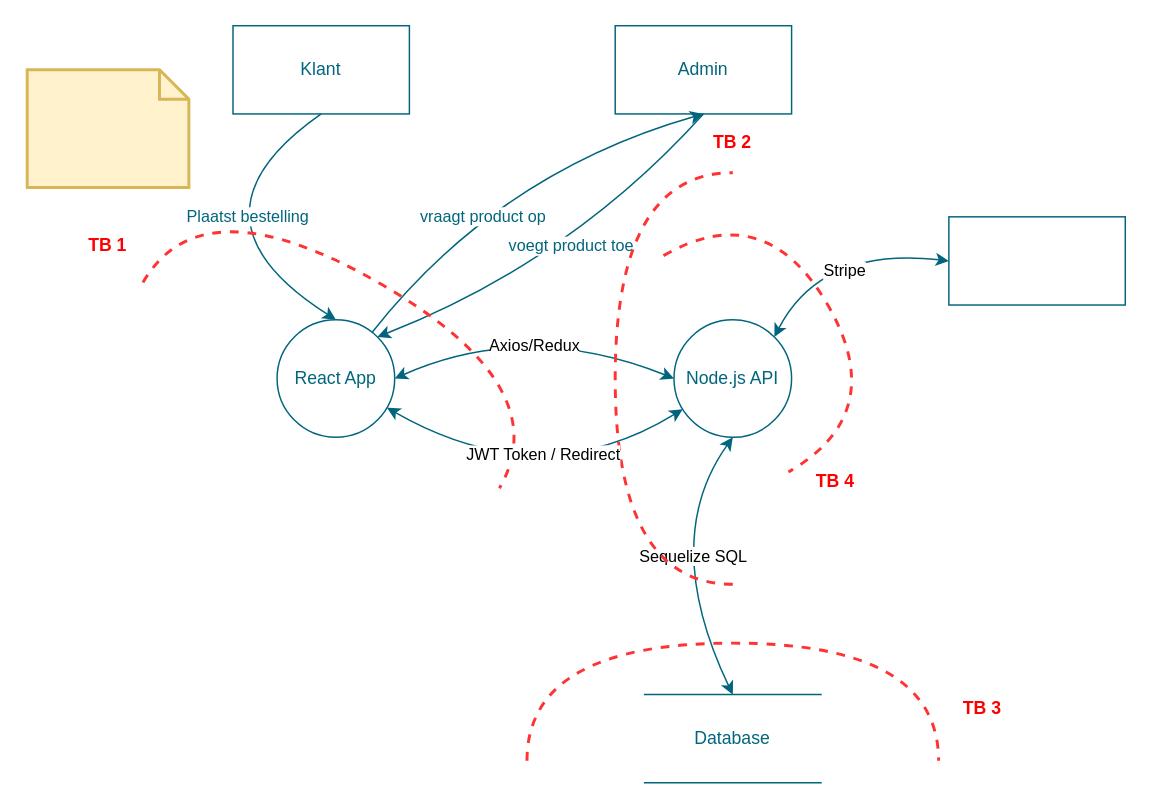
The diagram is 1151 pixels wide and 809 high, and some of its shapes have lost their labels. Here are the shapes that lost their labels. From the top down, the box of each, then its label:
(25, 68, 190, 188): Alle externe communicatie naar React App is SSL/TLS
(947, 215, 1125, 305): Payment Gateway
